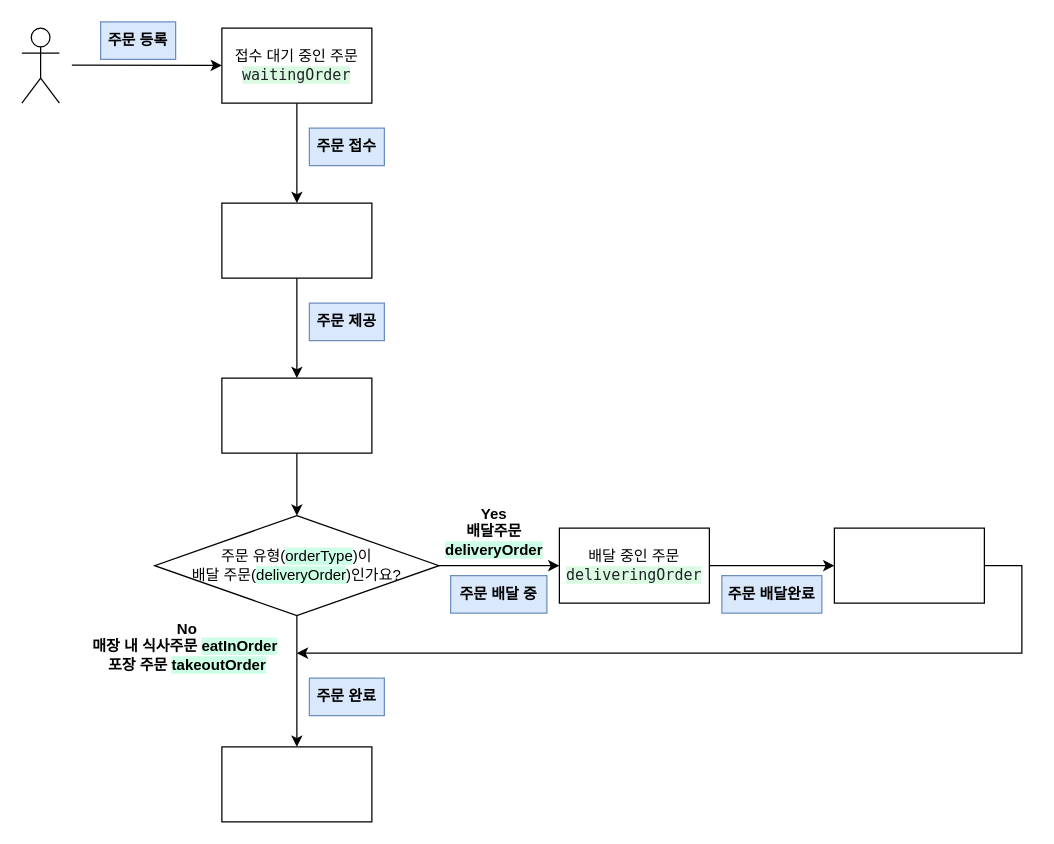
This 1054x844 diagram has some shape labels left out. The box of each missing label's shape, as (x1, y1, x2, y2) in pixels:
Actor: (21, 27, 59, 103)
배달완료된 주문 deliveredOrder: (833, 527, 984, 603)
완료된 주문 completedOrder: (221, 746, 372, 822)
접수된 주문 acceptedOrder: (221, 202, 372, 278)
제공된 주문 servedOrder: (221, 377, 372, 453)
